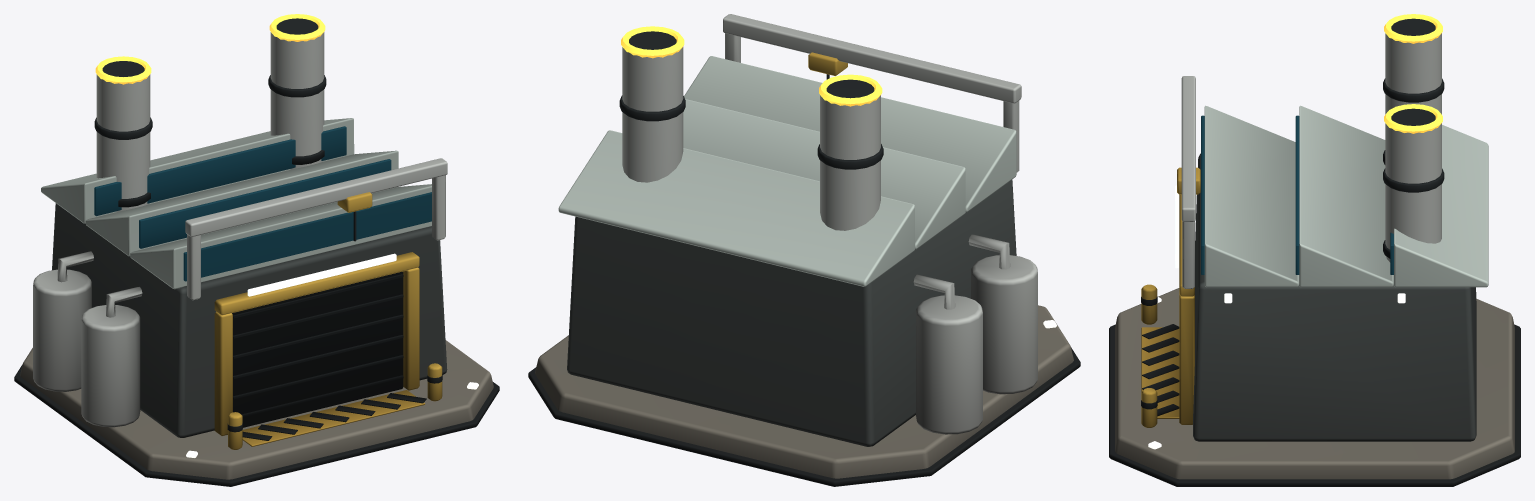
Rendered from foundry.glb.
3 views of the same model, side by side, from view 1: azimuth 30°, elevation 25°; view 2: azimuth 150°, elevation 25°; view 3: azimuth 270°, elevation 25° (orthographic). The views are drawn at different scales.
Parts seen in each view (by area): view 1: Steel.010, Gear.008, Hall.001, Skylights, Foundation.002, Roof, Hazard.002, Trim.002, Furnace, Lights.008; view 2: Hall.001, Roof, Steel.010, Foundation.002, Trim.002, Gear.008, Furnace, Hazard.002; view 3: Hall.001, Roof, Foundation.002, Steel.010, Hazard.002, Trim.002, Gear.008, Furnace, Skylights.
Part boxes in pixels (left/top/right/bottom): Steel.010: left=33, top=32, right=447, bottom=427; Gear.008: left=94, top=18, right=442, bottom=440; Hall.001: left=52, top=203, right=447, bottom=437; Skylights: left=94, top=126, right=431, bottom=281; Foundation.002: left=20, top=340, right=493, bottom=479; Roof: left=41, top=118, right=431, bottom=289; Hazard.002: left=214, top=192, right=442, bottom=449; Trim.002: left=14, top=364, right=499, bottom=486; Furnace: left=95, top=14, right=325, bottom=84; Lights.008: left=247, top=253, right=396, bottom=296; Hall.001: left=567, top=180, right=1016, bottom=446; Roof: left=558, top=56, right=1016, bottom=286; Steel.010: left=622, top=14, right=1037, bottom=434; Foundation.002: left=535, top=305, right=1073, bottom=478; Trim.002: left=528, top=347, right=1080, bottom=486; Gear.008: left=619, top=31, right=883, bottom=169; Furnace: left=621, top=26, right=882, bottom=106; Hazard.002: left=808, top=52, right=847, bottom=75; Hall.001: left=1193, top=153, right=1476, bottom=441; Roof: left=1204, top=105, right=1488, bottom=287; Foundation.002: left=1115, top=288, right=1514, bottom=479; Steel.010: left=1181, top=33, right=1441, bottom=288; Hazard.002: left=1141, top=167, right=1200, bottom=427; Trim.002: left=1109, top=324, right=1520, bottom=486; Gear.008: left=1141, top=18, right=1444, bottom=416; Furnace: left=1384, top=14, right=1442, bottom=133; Skylights: left=1201, top=115, right=1393, bottom=274.
Size of the model in its own units: 5.66 by 4.54 by 5.22.
